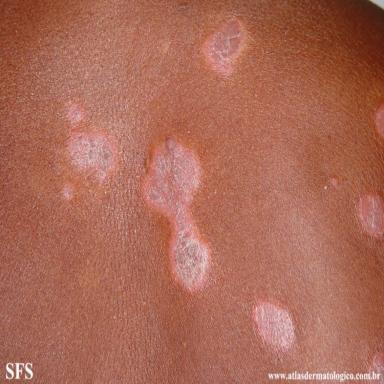Psoriasis: (143, 137, 211, 293), (67, 104, 119, 185), (205, 19, 245, 75), (253, 301, 294, 350), (358, 194, 384, 239), (61, 182, 77, 201), (376, 104, 384, 139)
